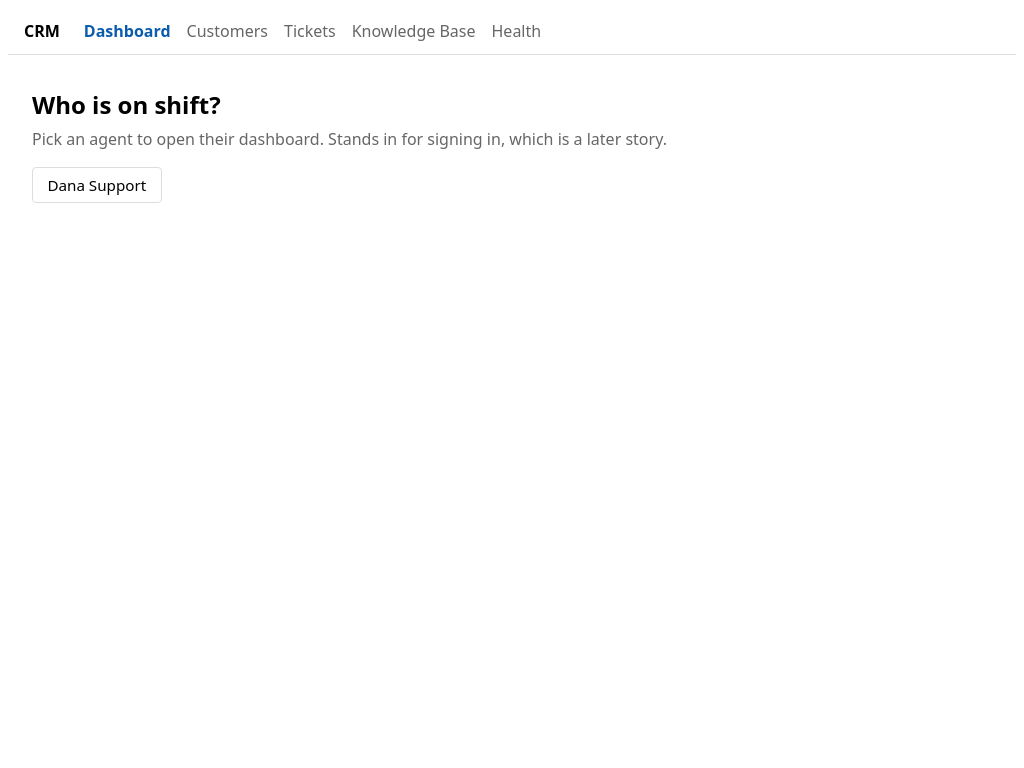
Test case: app navigation › asks which agent is on shift when none has been picked
Expected: the heading "Who is on shift?" is shown, [32,88,221,121]
# Picking one swaps the placeholder for the real dashboard.
Click the button "Dana Support" at {"x": 97, "y": 185}, box [32,167,162,203]
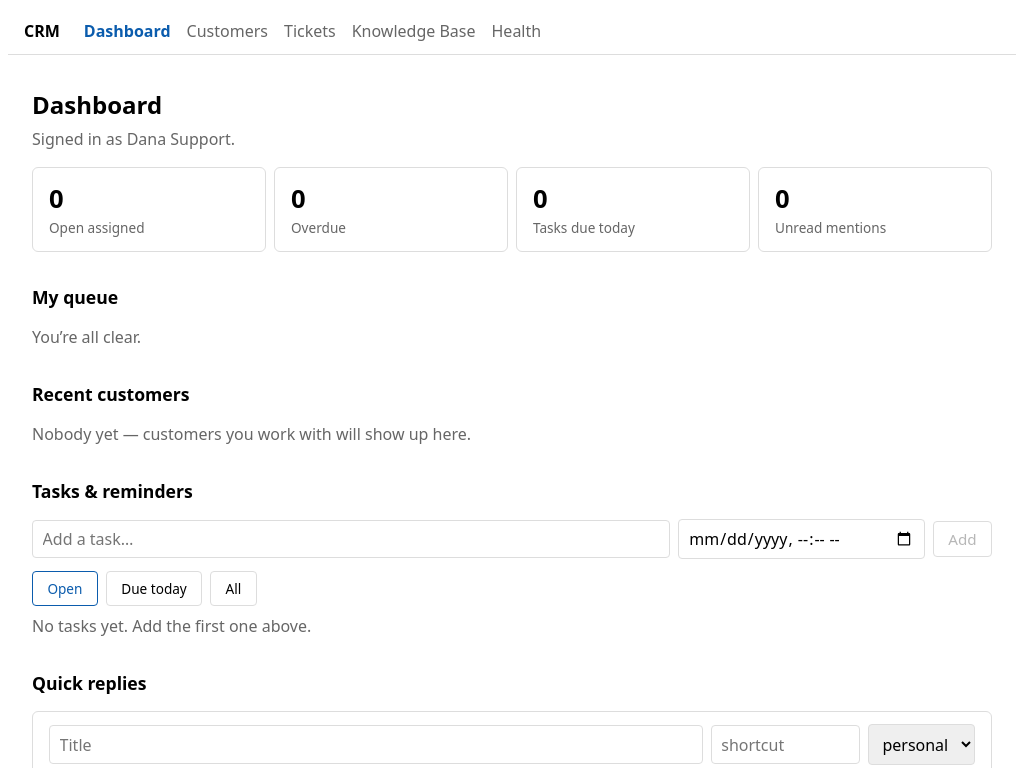
Expected: the heading "Dashboard" is shown, [32,88,162,121]
